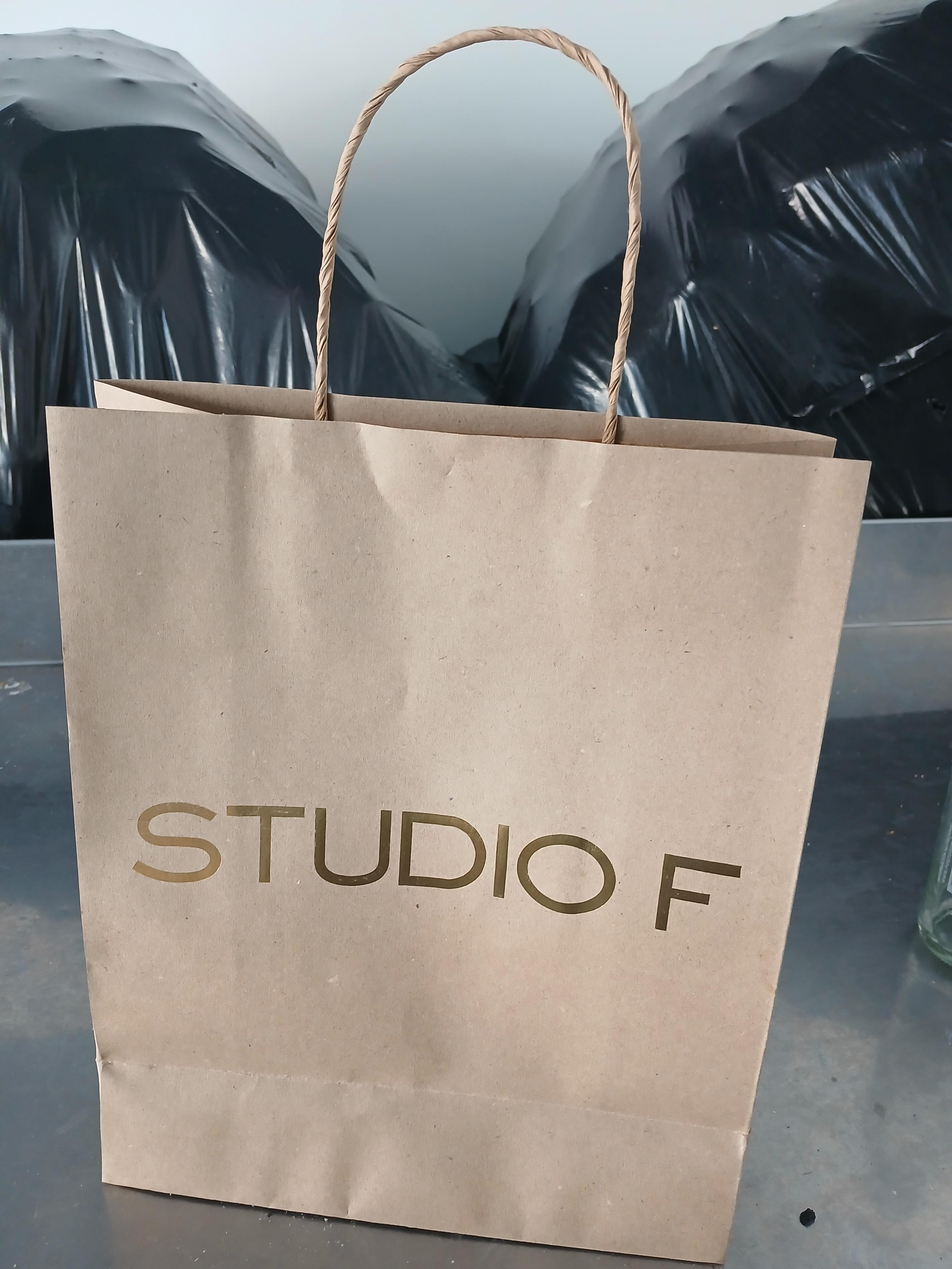Carton: (46, 379, 873, 1260)
